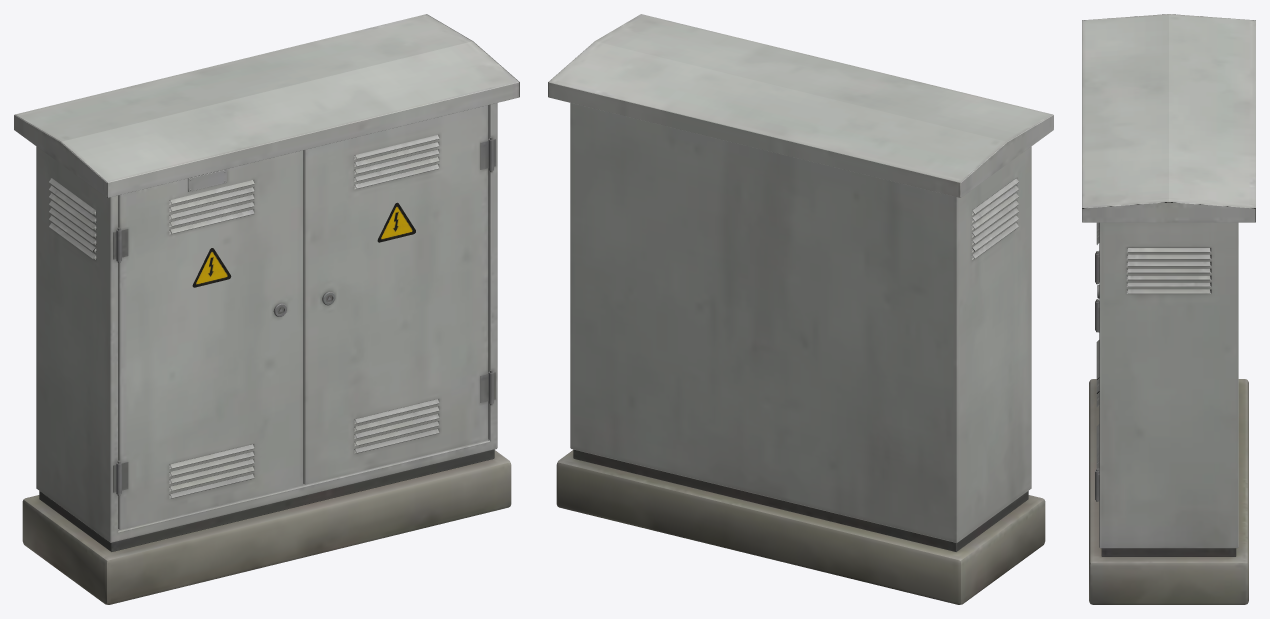
The model's file is utility_cabinet.glb.
3 views of the same model, side by side, from view 1: azimuth 30°, elevation 25°; view 2: azimuth 150°, elevation 25°; view 3: azimuth 270°, elevation 25° (orthographic). The views are drawn at different scales.
Parts seen in each view (by area): view 1: utility-cabinet_body, utility-cabinet_warning_decal; view 2: utility-cabinet_body; view 3: utility-cabinet_body.
Boxes of the visible parts, <box> form: utility-cabinet_body: <box>14,14,519,604</box>; utility-cabinet_warning_decal: <box>192,202,415,287</box>; utility-cabinet_body: <box>548,14,1053,604</box>; utility-cabinet_body: <box>1082,14,1255,604</box>.
Size of the model in its own units: 1.28 by 1.29 by 0.5.
2 materials, 2 textured.
